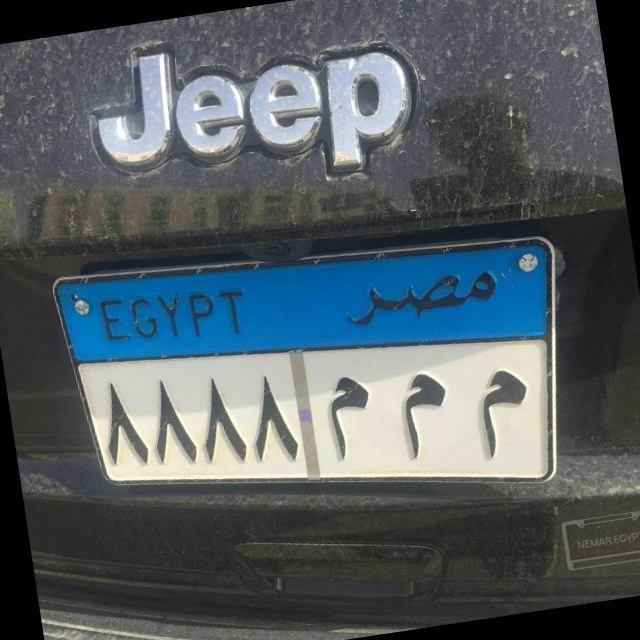License Plate: (45, 195, 594, 558)
